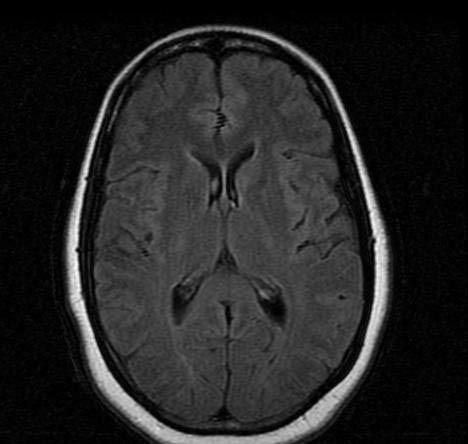Normal_Brain: (2, 5, 468, 444)
